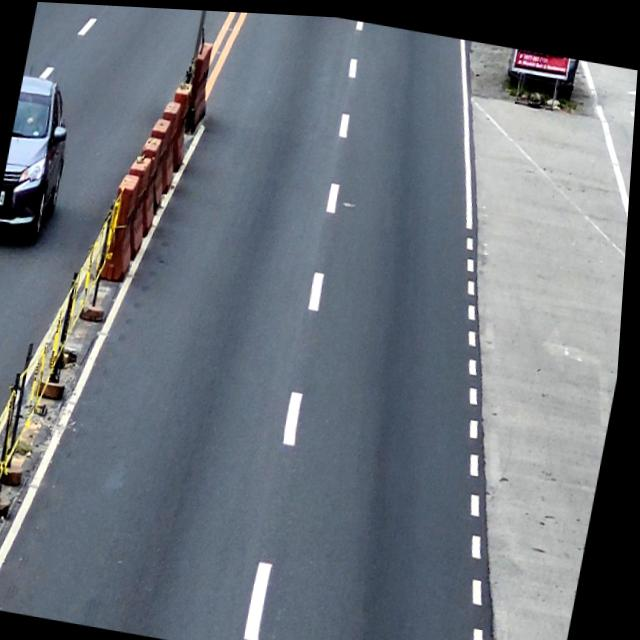Car: (0, 71, 81, 248)
